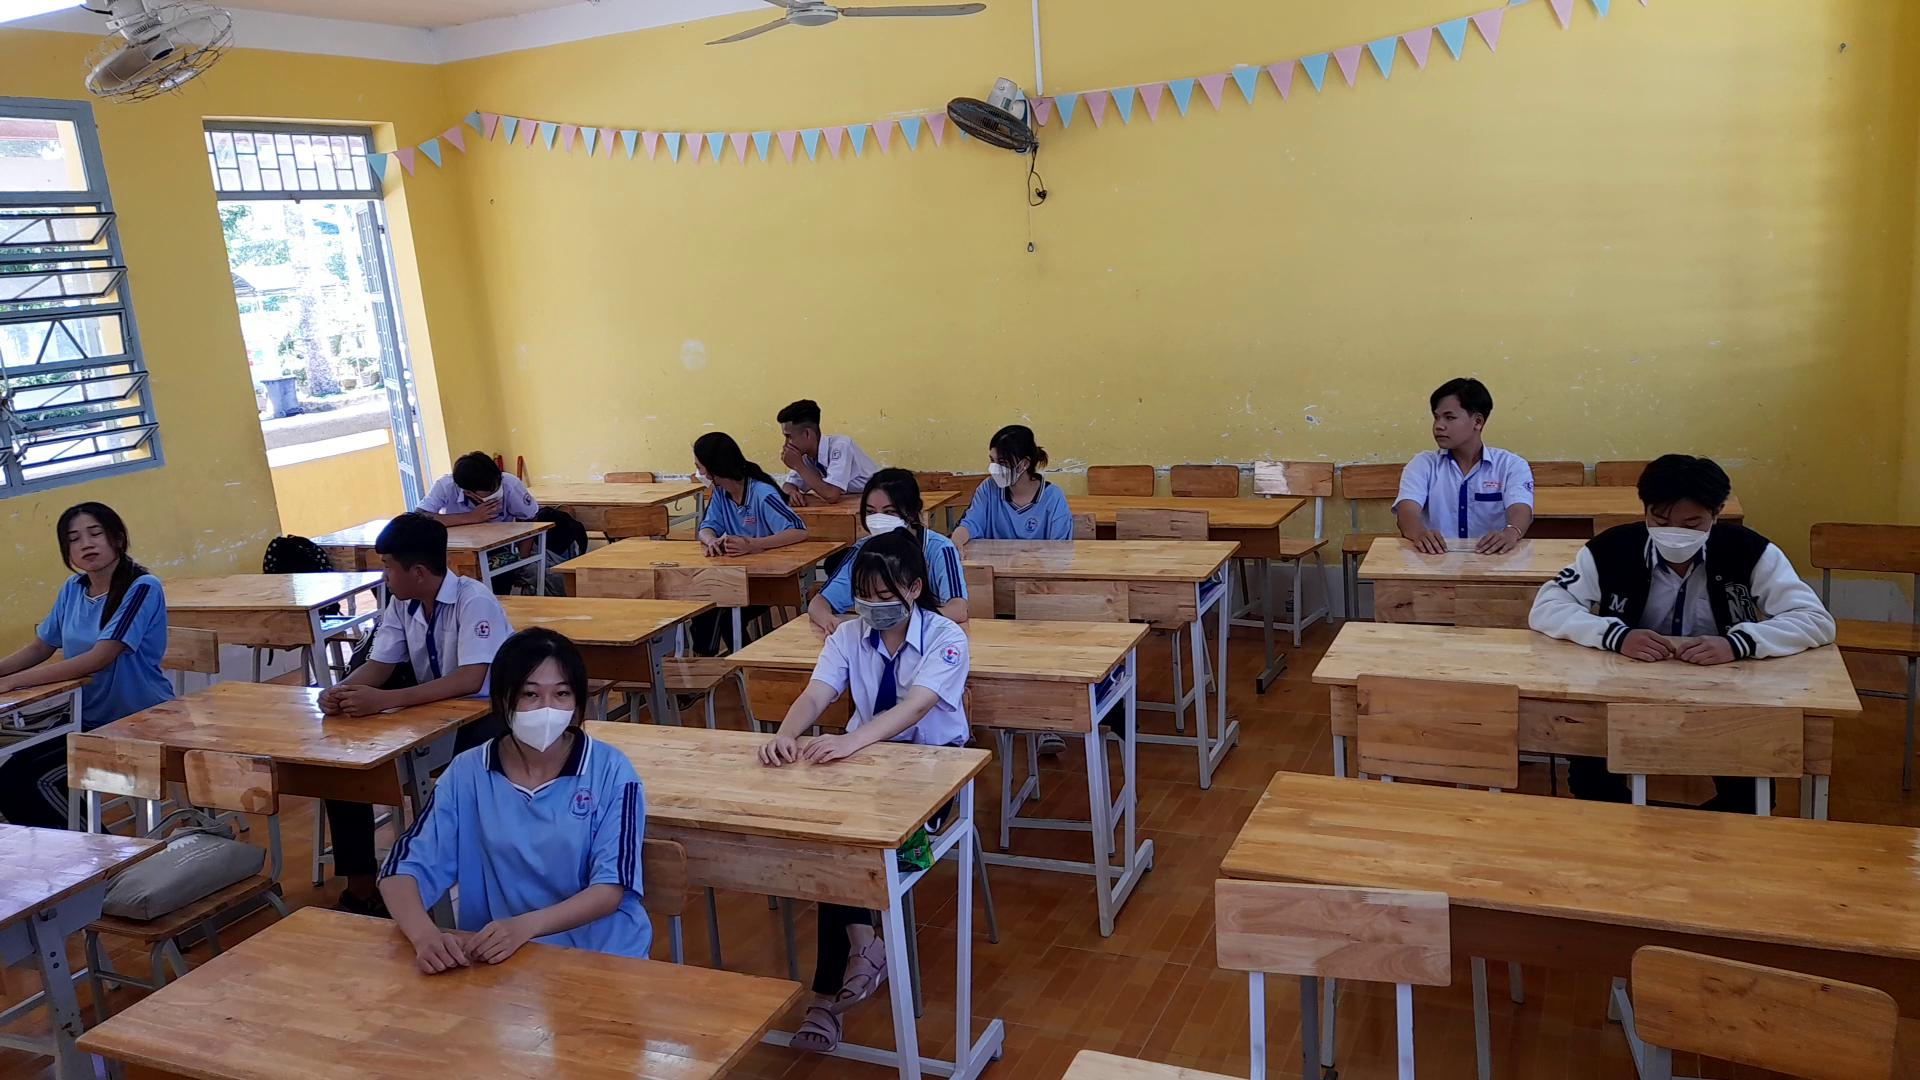Hand Under Table: (1036, 483, 1077, 549)
Look Around: (404, 447, 535, 530), (363, 508, 452, 601), (1412, 371, 1501, 463), (749, 382, 839, 460), (673, 422, 762, 498), (965, 419, 1055, 496)
Normal: (375, 626, 651, 978), (1530, 444, 1840, 673), (740, 520, 978, 774)
